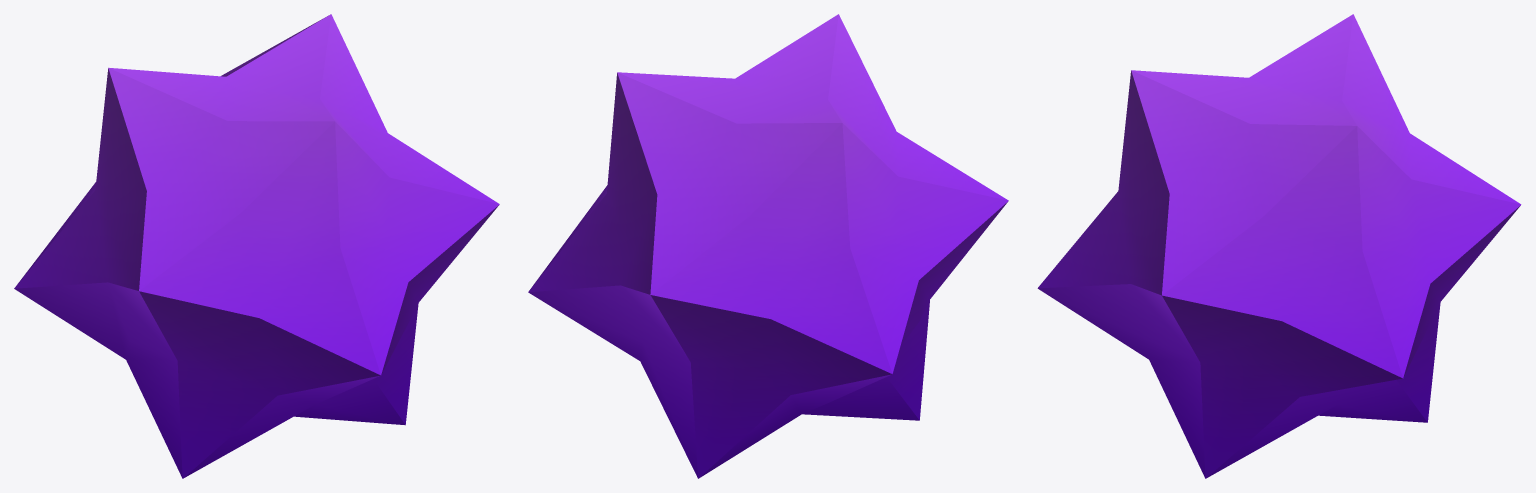
The model's file is Collectable_Gem_02.fbx.
3 views of the same model, side by side, from view 1: azimuth 30°, elevation 25°; view 2: azimuth 150°, elevation 25°; view 3: azimuth 270°, elevation 25° (orthographic).
Parts seen in each view (by area): view 1: Collectable_Gem_02; view 2: Collectable_Gem_02; view 3: Collectable_Gem_02.
Part boxes in pixels (x1,y1,x2,y2): Collectable_Gem_02: [14, 14, 499, 478]; Collectable_Gem_02: [528, 14, 1008, 478]; Collectable_Gem_02: [1037, 14, 1521, 478].
Size of the model in its own units: 75.05 by 69.72 by 85.84.
